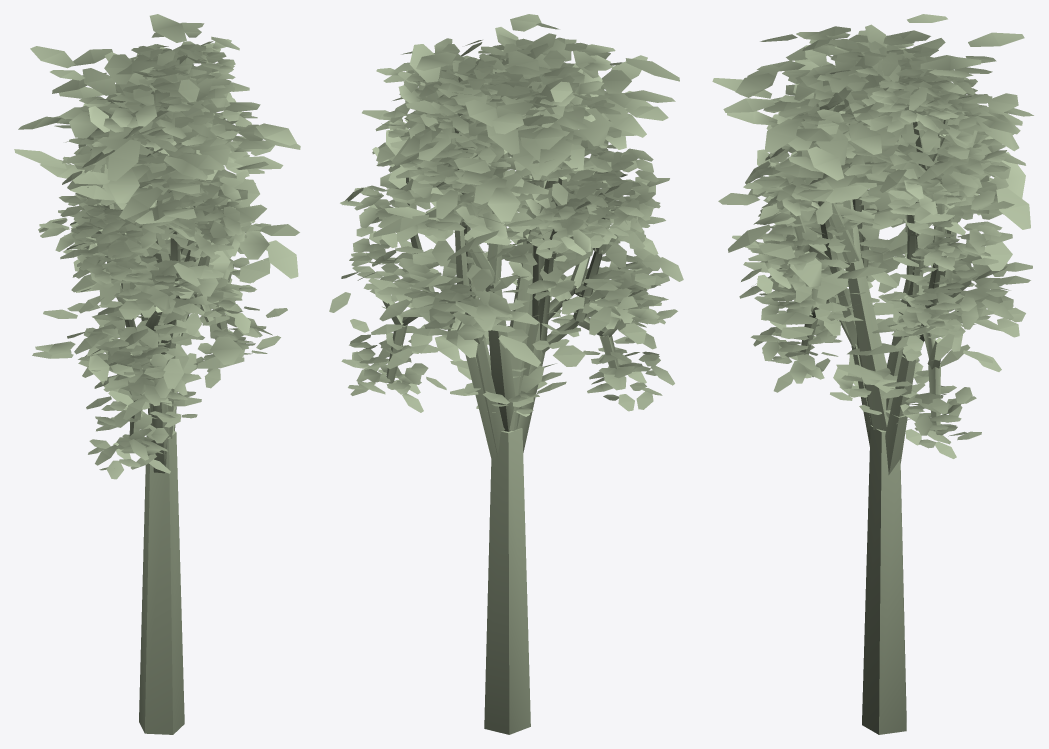
The model's file is tree_poplar.glb.
The picture shows the model from 3 angles, left to right: view 1: azimuth 30°, elevation 25°; view 2: azimuth 150°, elevation 25°; view 3: azimuth 270°, elevation 25°; orthographic projection. The views are drawn at different scales.
Parts seen in each view (by area): view 1: tier2_foliage, tier0_foliage, tier1_foliage, tier0_bark, tier2_bark; view 2: tier2_foliage, tier1_foliage, tier0_foliage, tier0_bark, tier2_bark, tier1_bark; view 3: tier2_foliage, tier0_foliage, tier1_foliage, tier0_bark, tier2_bark, tier1_bark.
Part boxes in pixels (x1,y1,x2,y2): tier2_foliage: (38, 28, 287, 479); tier0_foliage: (14, 14, 300, 406); tier1_foliage: (32, 44, 275, 422); tier0_bark: (139, 202, 188, 734); tier2_bark: (94, 78, 234, 473); tier2_foliage: (329, 38, 677, 416); tier1_foliage: (362, 23, 683, 412); tier0_foliage: (373, 14, 679, 379); tier0_bark: (464, 149, 561, 734); tier2_bark: (382, 82, 620, 465); tier1_bark: (448, 176, 600, 455); tier2_foliage: (732, 41, 1005, 458); tier0_foliage: (712, 30, 1033, 392); tier1_foliage: (743, 14, 1032, 417); tier0_bark: (824, 185, 946, 734); tier2_bark: (786, 118, 948, 474); tier1_bark: (839, 111, 958, 440).
Size of the model in its own units: 0.4353 by 1 by 0.427.
